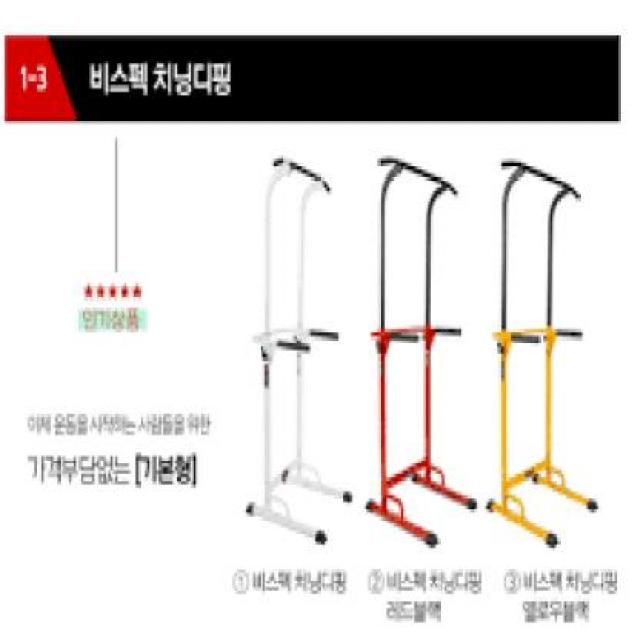chinning dipping: (366, 152, 482, 548), (488, 151, 603, 549), (246, 157, 352, 546)
